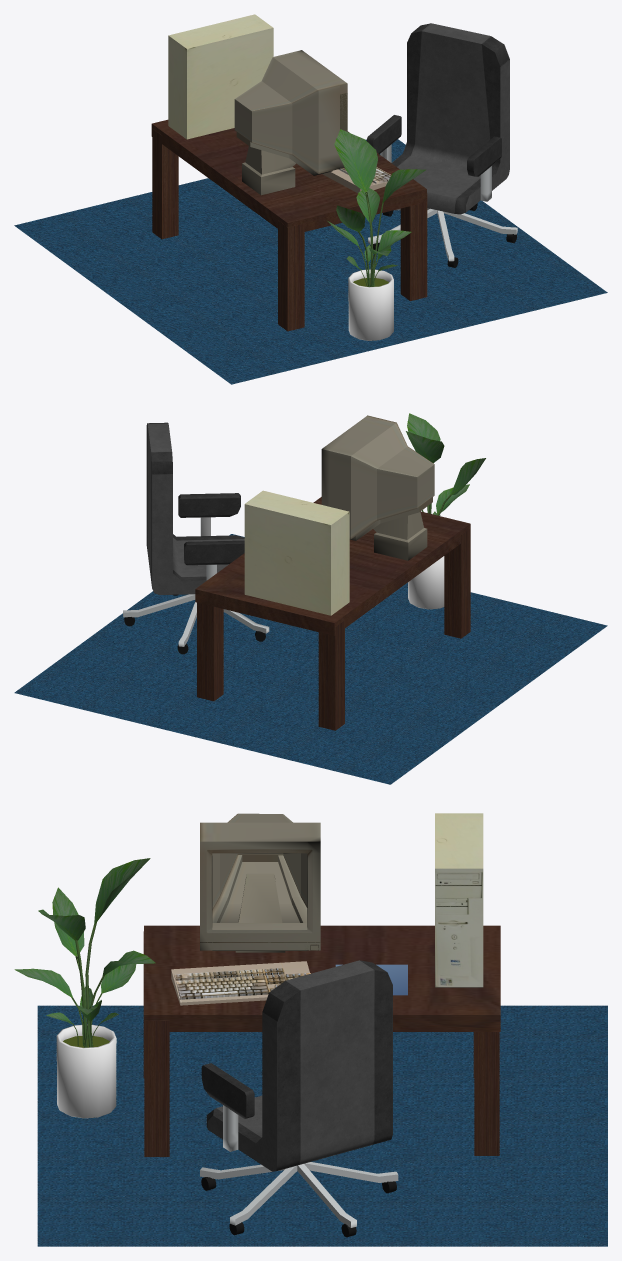
Rendered from DeskScene2.glb.
3 views of the same model, one above another, from view 1: azimuth 30°, elevation 25°; view 2: azimuth 150°, elevation 25°; view 3: azimuth 270°, elevation 25° (orthographic). The views are drawn at different scales.
Parts seen in each view (by area): view 1: Plane, pCube6, Cube.009, Cube.005, Cube, Cube.002_0, Cube.002, Cube.001, Cube.003, Plane.003_5, pCylinder1, Plane.001_3 (+3 smaller); view 2: Plane, Cube.009, Cube.005, Cube, pCube6, Cube.003, Cube.002, Cube.004, Cube.002_0, pCylinder1, Plane.003_5, Plane_1 (+1 smaller); view 3: Plane, pCube6, Cube, Cube.009, Cube.005, Cube.002_0, Cube.006, Cube.001, pCylinder1, Cube.004, Plane.003_5, Plane_1 (+5 smaller).
Boxes of the visible parts, bbox=[...] form: Plane: bbox=[14, 139, 607, 384]; pCube6: bbox=[366, 23, 509, 214]; Cube.009: bbox=[234, 50, 347, 195]; Cube.005: bbox=[168, 14, 273, 139]; Cube: bbox=[151, 119, 426, 231]; Cube.002_0: bbox=[348, 269, 393, 340]; Cube.002: bbox=[278, 220, 304, 331]; Cube.001: bbox=[400, 193, 427, 301]; Cube.003: bbox=[152, 128, 178, 239]; Plane.003_5: bbox=[334, 129, 377, 280]; pCylinder1: bbox=[368, 208, 517, 261]; Plane.001_3: bbox=[371, 169, 425, 286]; Plane: bbox=[14, 534, 607, 784]; Cube.009: bbox=[321, 415, 434, 560]; Cube.005: bbox=[244, 490, 349, 615]; Cube: bbox=[195, 497, 470, 635]; pCube6: bbox=[146, 422, 244, 594]; Cube.003: bbox=[318, 620, 344, 730]; Cube.002: bbox=[444, 528, 470, 638]; Cube.004: bbox=[197, 602, 223, 701]; Cube.002_0: bbox=[408, 556, 444, 609]; pCylinder1: bbox=[123, 594, 269, 646]; Plane.003_5: bbox=[406, 431, 444, 513]; Plane_1: bbox=[438, 458, 485, 515]; Plane: bbox=[37, 1005, 607, 1246]; pCube6: bbox=[201, 960, 392, 1171]; Cube: bbox=[144, 925, 500, 1031]; Cube.009: bbox=[200, 813, 320, 952]; Cube.005: bbox=[435, 813, 483, 987]; Cube.002_0: bbox=[56, 1024, 116, 1118]; Cube.006: bbox=[171, 961, 310, 1005]; Cube.001: bbox=[144, 1020, 169, 1156]; pCylinder1: bbox=[200, 1162, 398, 1227]; Cube.004: bbox=[474, 1032, 499, 1155]; Plane.003_5: bbox=[85, 858, 150, 1047]; Plane_1: bbox=[52, 887, 87, 1042].
Size of the model in its own units: 6.99 by 3.92 by 7.28.
Materials: 7 (5 with a texture image).
